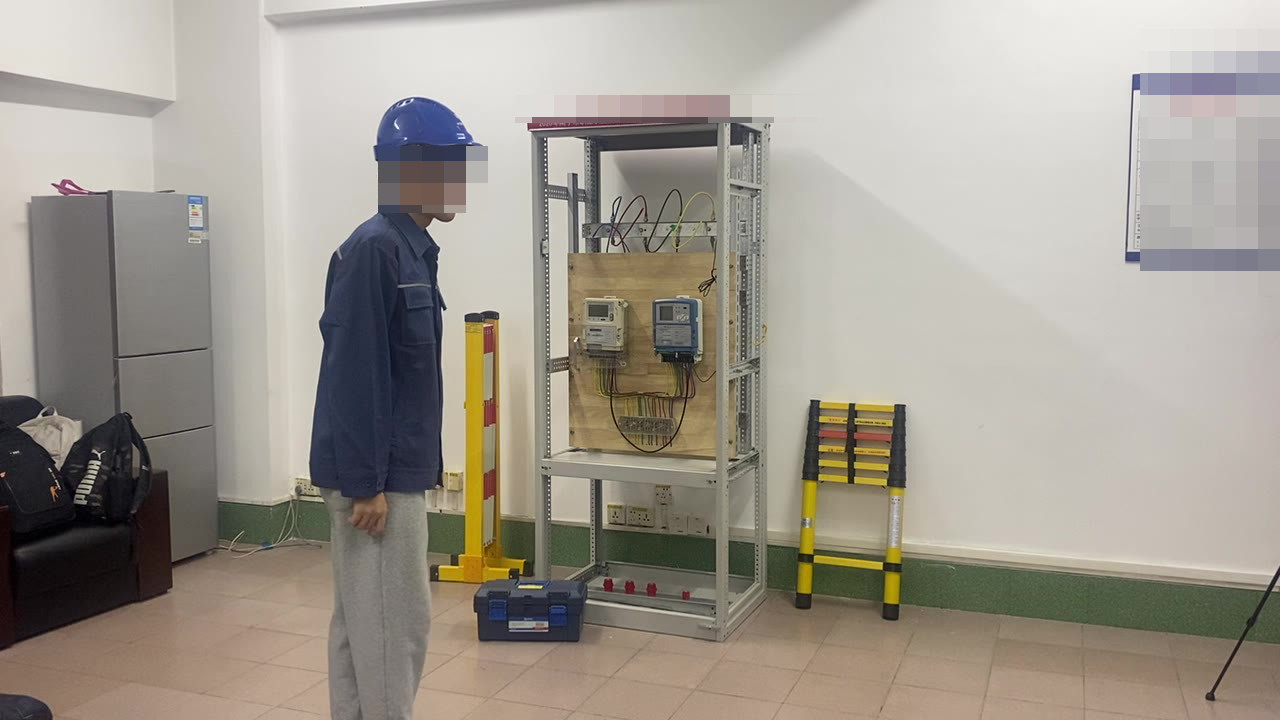downcloth: (316, 490, 435, 720)
halt: (370, 95, 484, 222)
hand: (347, 495, 390, 534)
noear: (387, 150, 444, 212)
person: (300, 94, 485, 719)
upsuit: (307, 207, 452, 491)
